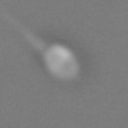normal: (1, 5, 46, 51)
